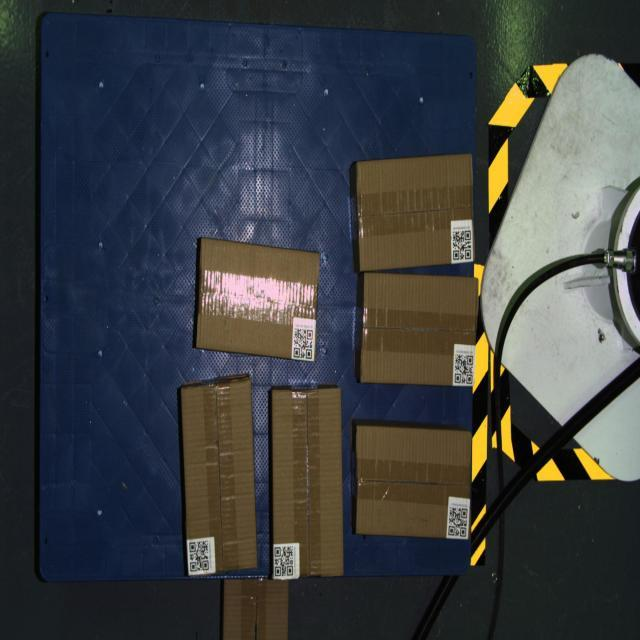box: (196, 240, 320, 362), (181, 380, 258, 576), (356, 154, 474, 272), (272, 388, 344, 580), (361, 273, 478, 387), (356, 426, 472, 540)
